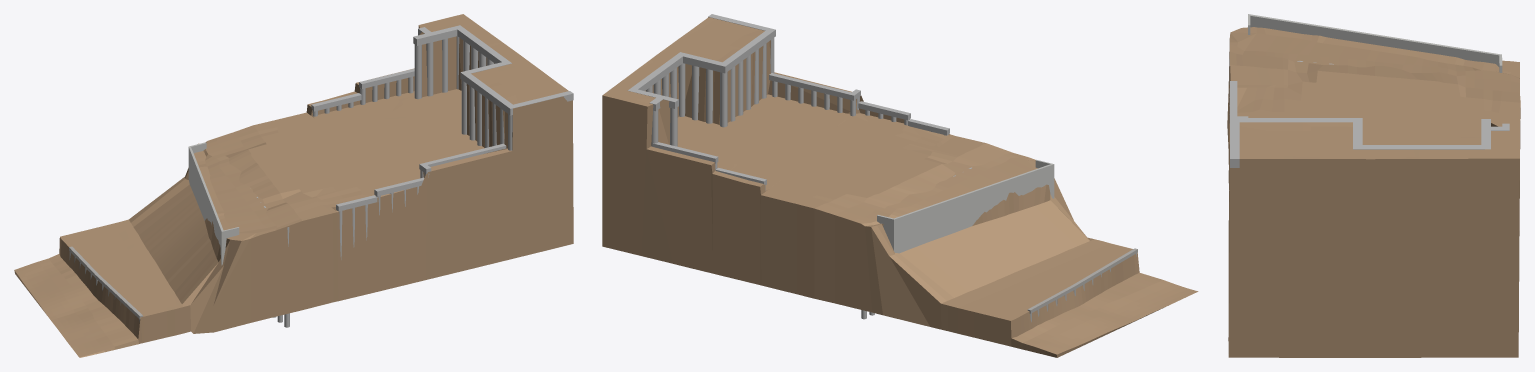
Rendered from cb2_spw4.glb.
3 renders of one model, left to right at view 1: azimuth 30°, elevation 25°; view 2: azimuth 150°, elevation 25°; view 3: azimuth 270°, elevation 25°, orthographic. The views are drawn at different scales.
Parts seen in each view (by area): view 1: Terrain 07 - SPW2+3.003, CB2--RL13.005, Retaining wall.001, CB1-RL9.011, Cube.145, CB1-RL10.004; view 2: Terrain 07 - SPW2+3.003, Retaining wall.001, CB2--RL13.005, CB1-RL9.011, Cube.145; view 3: Terrain 07 - SPW2+3.003, Retaining wall.001, CB2--RL13.005.
Boxes of the visible parts, x1,y1,x2,y2 form: Terrain 07 - SPW2+3.003: (14,14,573,357); CB2--RL13.005: (413,25,573,115); Retaining wall.001: (188,142,239,265); CB1-RL9.011: (419,143,506,173); Cube.145: (69,246,142,319); CB1-RL10.004: (359,68,414,88); Terrain 07 - SPW2+3.003: (602,17,1198,357); Retaining wall.001: (877,159,1054,253); CB2--RL13.005: (627,14,775,111); CB1-RL9.011: (769,73,860,100); Cube.145: (1027,248,1137,313); Terrain 07 - SPW2+3.003: (1227,27,1520,357); Retaining wall.001: (1248,14,1502,72); CB2--RL13.005: (1230,118,1509,167).
Bounding box in the file's own units: 45.82 × 14.76 × 17.99.
